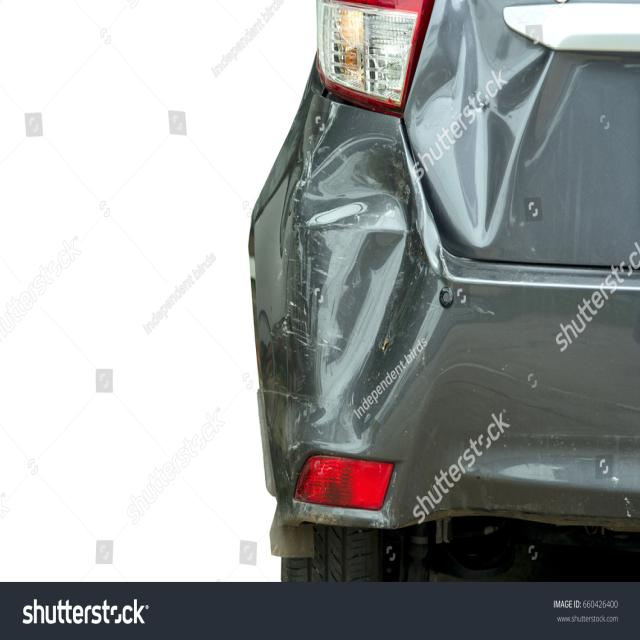dent: (274, 0, 560, 438)
